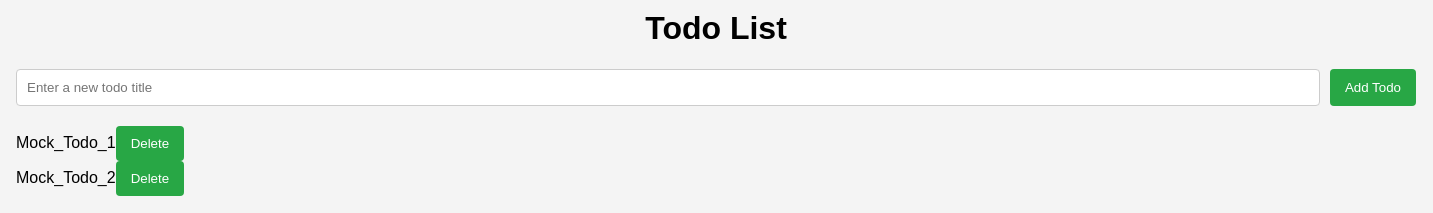
Scenario: Testing TodoList Component › deletes a todo
Expected: the list item "Mock_Todo_1" is shown, [16,134,116,151]
Expected: the list item "Mock_Todo_2" is shown, [16,169,116,186]
Click the button "Delete" next to "Mock_Todo_1".
click(150, 143)  # box [116,126,184,161]
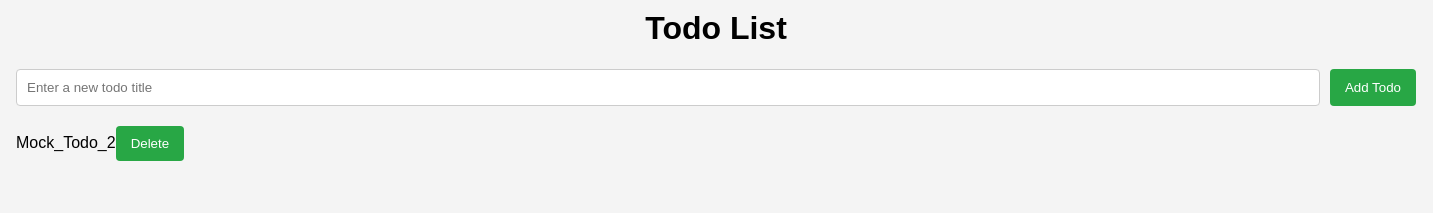
Expected: the list item "Mock_Todo_1" is gone
